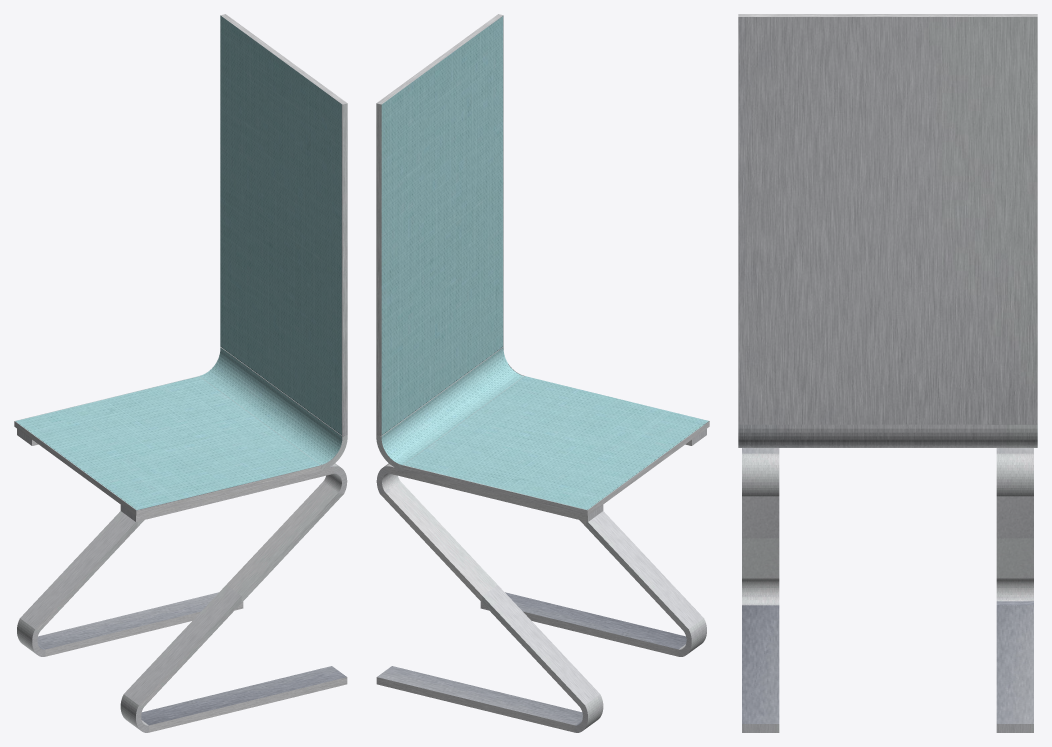
Rendered from Chaise.fbx.
3 renders of one model, left to right at view 1: azimuth 30°, elevation 25°; view 2: azimuth 150°, elevation 25°; view 3: azimuth 270°, elevation 25°, orthographic. The views are drawn at different scales.
Parts seen in each view (by area): view 1: Plane, Plane.007, Plane.000; view 2: Plane, Plane.000, Plane.007; view 3: Plane, Plane.007, Plane.000.
Part boxes in pixels (x1,y1,x2,y2): Plane: (14, 14, 347, 515); Plane.007: (120, 463, 347, 732); Plane.000: (17, 429, 243, 656); Plane: (376, 14, 709, 515); Plane.000: (376, 463, 603, 732); Plane.007: (480, 429, 706, 656); Plane: (738, 14, 1037, 447); Plane.007: (742, 448, 779, 732); Plane.000: (996, 448, 1033, 732).
Bounding box in the file's own units: 40.2 × 105 × 40.
